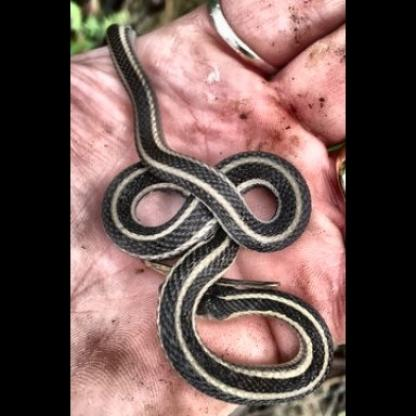Snake: (93, 21, 346, 416)
